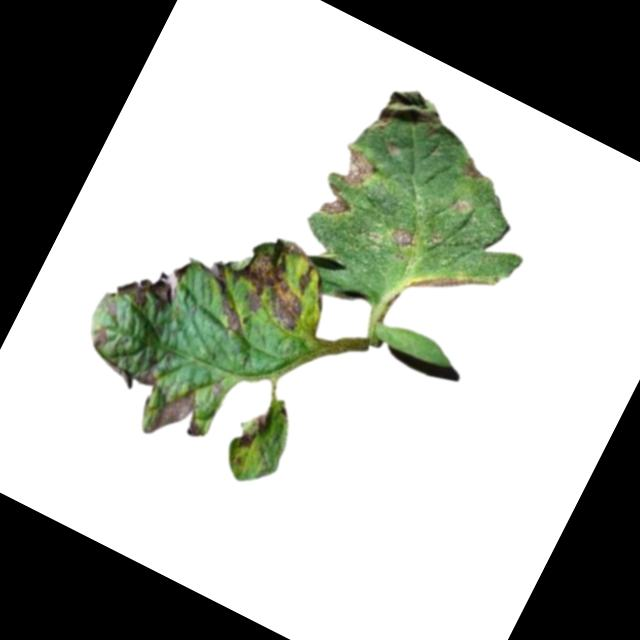Early_blight: (177, 207, 334, 357), (111, 245, 188, 322), (149, 378, 223, 455), (378, 79, 447, 142), (408, 252, 478, 313), (103, 350, 163, 400), (332, 140, 382, 193), (236, 404, 276, 454), (316, 180, 355, 221), (87, 319, 117, 352), (461, 156, 492, 185), (390, 224, 417, 252)
